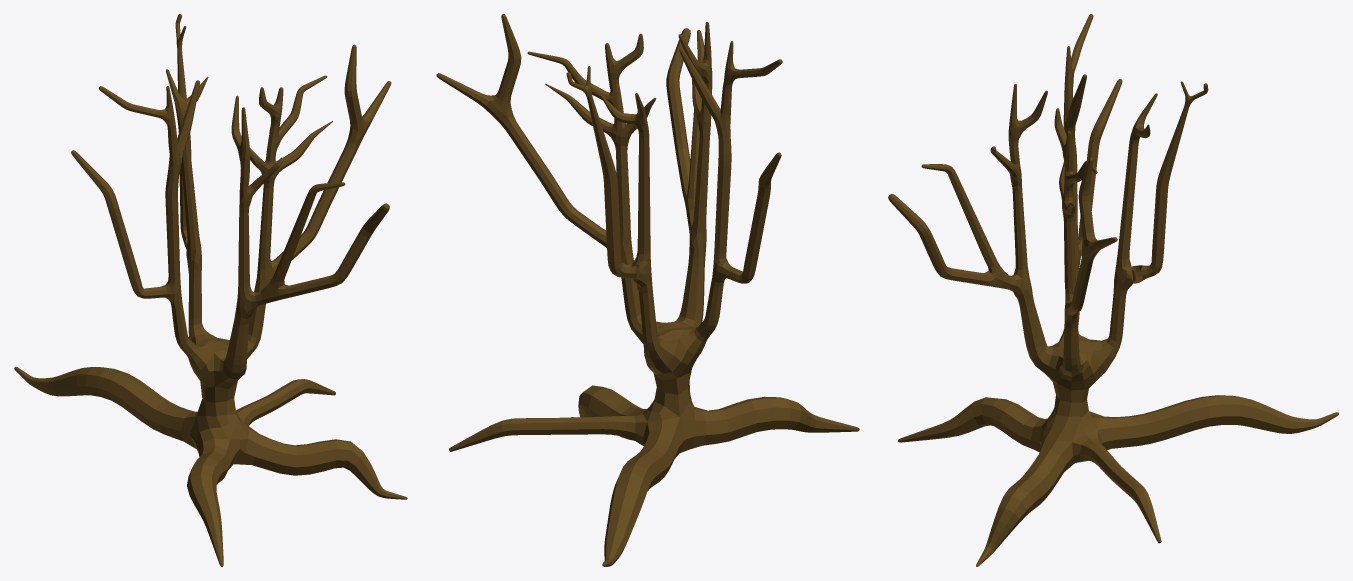
The model's file is Arbol2.fbx.
3 renders of one model, left to right at view 1: azimuth 30°, elevation 25°; view 2: azimuth 150°, elevation 25°; view 3: azimuth 270°, elevation 25°, orthographic. The views are drawn at different scales.
Visible parts, largest first — view 1: Vert.004; view 2: Vert.004; view 3: Vert.004.
Boxes of the visible parts, x1,y1,x2,y2 form: Vert.004: (14, 14, 407, 566); Vert.004: (436, 14, 859, 566); Vert.004: (888, 14, 1338, 566).
Bounding box in the file's own units: 3833 × 4986 × 4719.
